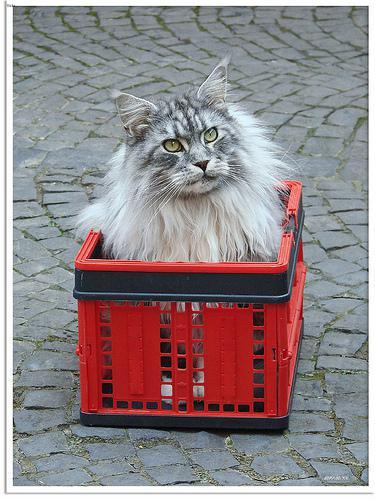cat: (82, 65, 278, 360)
